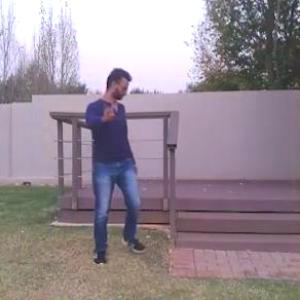takeoff-hand: (98, 96, 120, 126)
